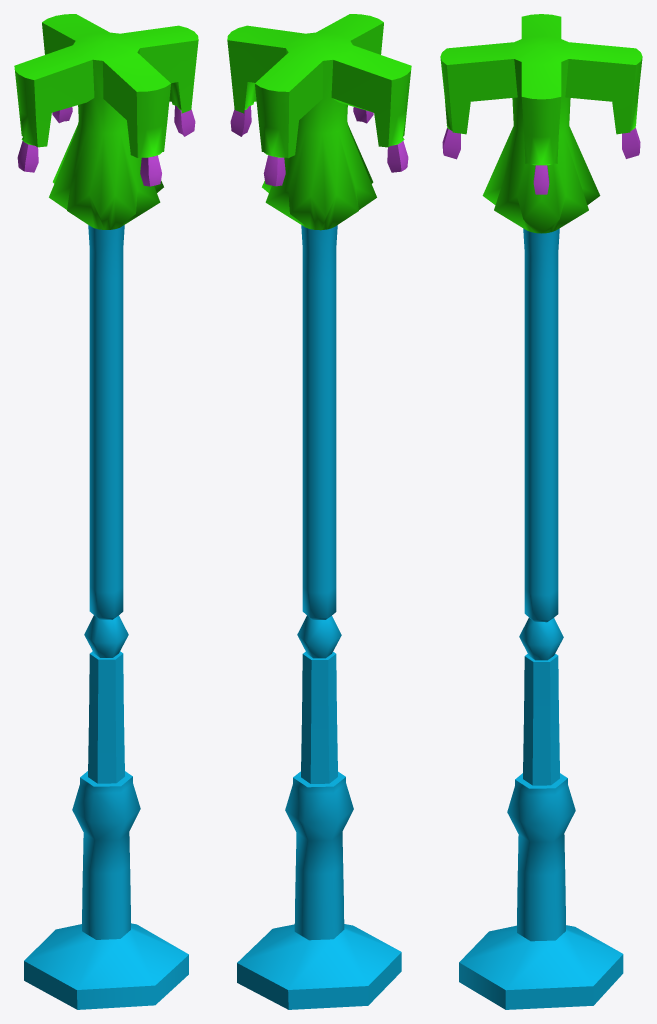
The model's file is lampComb_lowpoly.fbx.
The picture shows the model from 3 angles, left to right: view 1: azimuth 30°, elevation 25°; view 2: azimuth 150°, elevation 25°; view 3: azimuth 270°, elevation 25°; orthographic projection.
Parts seen in each view (by area): view 1: lampbody_low; view 2: lampbody_low; view 3: lampbody_low.
Part boxes in pixels (x1,y1,x2,y2): lampbody_low: [14, 14, 198, 1009]; lampbody_low: [227, 14, 411, 1009]; lampbody_low: [440, 14, 642, 1009].
Bounding box in the file's own units: 23.49 × 120 × 23.49.
